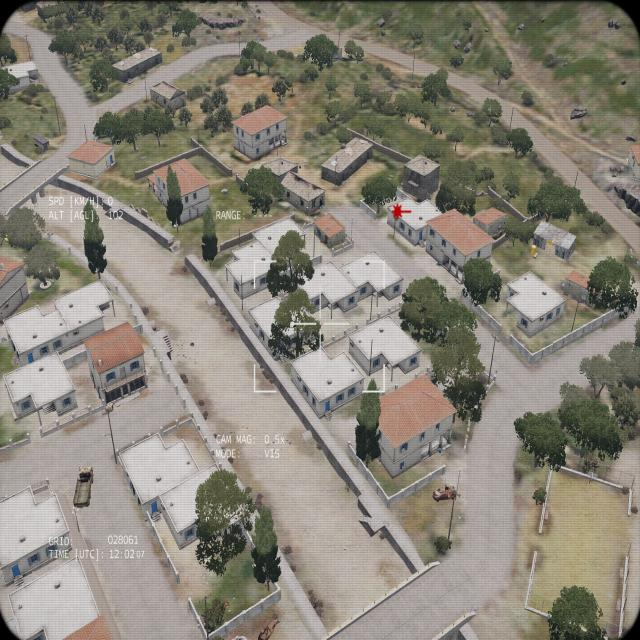truck: (72, 465, 93, 509)
